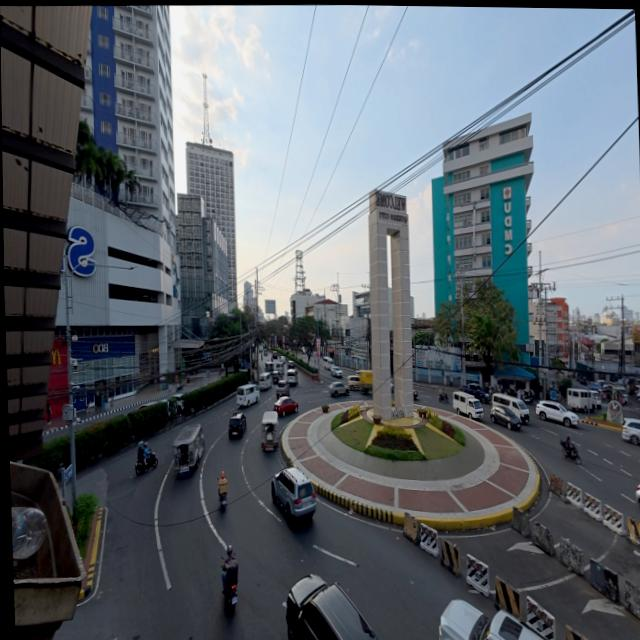Jeepneys: (173, 425, 204, 475), (260, 411, 278, 451), (263, 361, 272, 373)
car: (285, 575, 376, 639), (438, 600, 542, 639), (270, 467, 315, 524), (535, 402, 578, 426), (489, 405, 520, 430), (461, 383, 489, 403), (227, 412, 245, 438), (273, 397, 297, 416), (621, 419, 639, 444), (329, 382, 349, 396), (170, 394, 183, 414), (276, 380, 289, 397), (329, 366, 342, 377), (270, 371, 278, 384), (635, 484, 639, 507), (286, 361, 294, 369), (389, 379, 394, 391), (413, 389, 418, 400), (271, 351, 277, 359), (280, 356, 284, 364), (301, 347, 305, 354)
motorcycle: (135, 451, 157, 475), (560, 440, 580, 464), (223, 583, 236, 614), (217, 485, 226, 510), (218, 492, 226, 510), (522, 392, 532, 404), (438, 392, 448, 403), (175, 380, 183, 391), (639, 401, 640, 416)
trucks: (358, 370, 373, 392)
vans: (491, 393, 528, 423), (452, 392, 482, 419), (567, 388, 590, 413), (236, 385, 259, 406), (611, 384, 627, 403), (588, 391, 601, 410), (258, 373, 272, 390), (286, 369, 297, 384), (273, 361, 282, 376), (322, 357, 332, 369)
